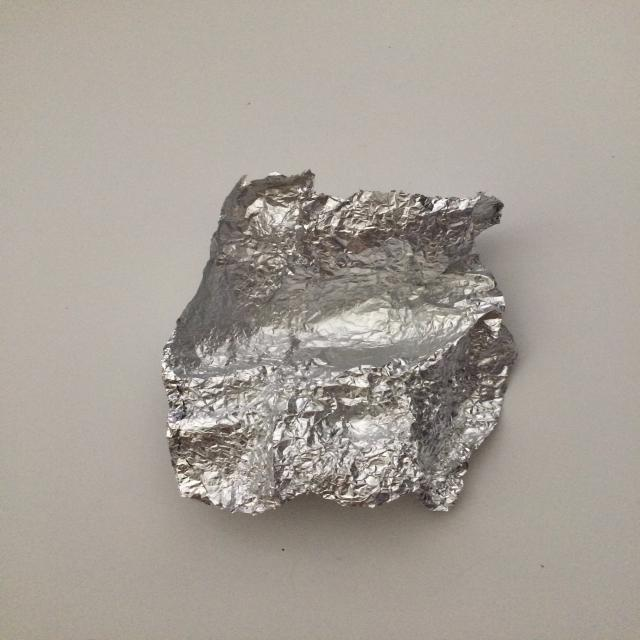metal: (164, 169, 519, 518)
